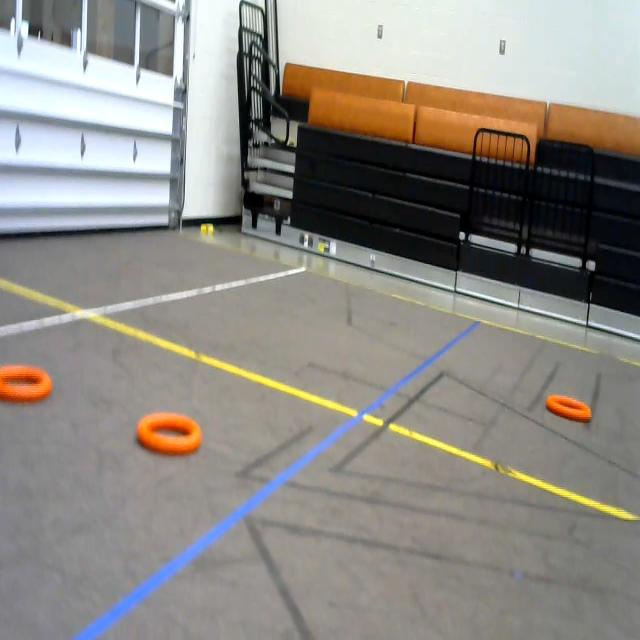note: (135, 405, 207, 467), (0, 353, 59, 409), (546, 389, 594, 430)
